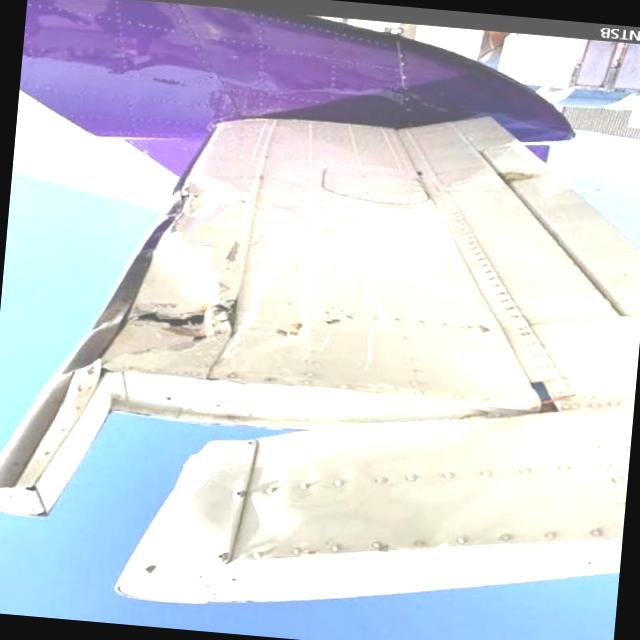dent: (180, 174, 257, 238)
